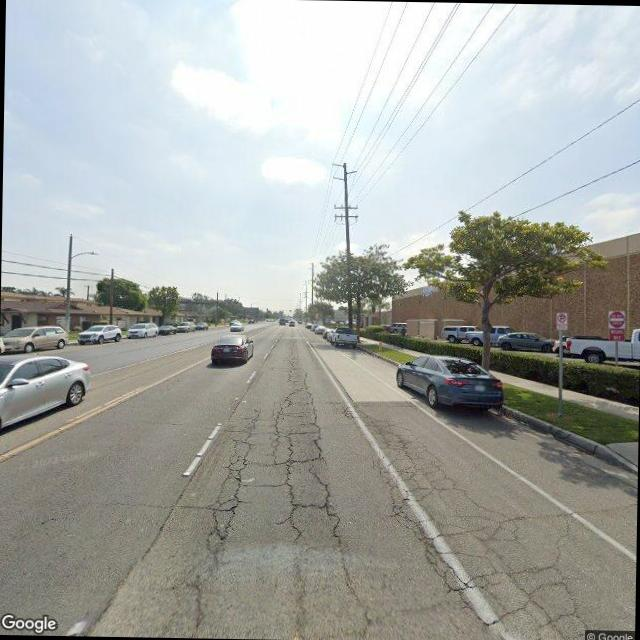crack: (165, 388, 609, 640)
